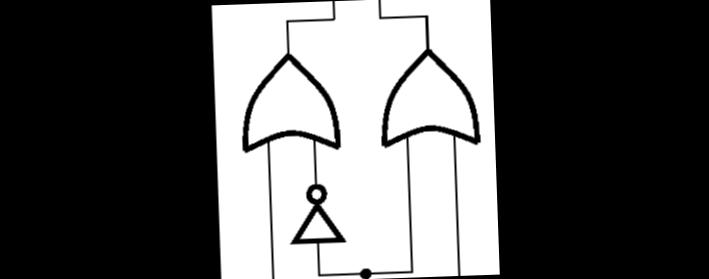not: (281, 176, 350, 256)
or: (369, 39, 484, 157), (232, 45, 346, 158)
